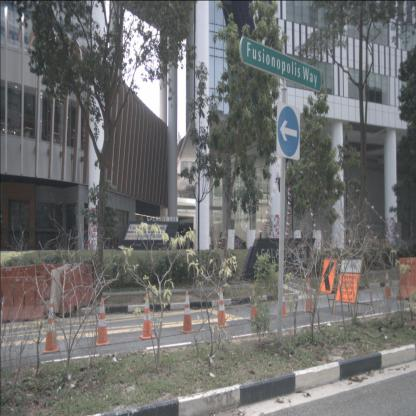barrier: (0, 276, 48, 324), (59, 264, 95, 314), (1, 264, 40, 309), (48, 262, 80, 314), (38, 264, 72, 300), (396, 257, 416, 302)
cone: (42, 302, 61, 353), (139, 294, 156, 339), (96, 297, 110, 346), (180, 291, 195, 333), (215, 288, 229, 328), (276, 279, 290, 317), (248, 286, 260, 322), (303, 278, 315, 312), (382, 270, 393, 298)
